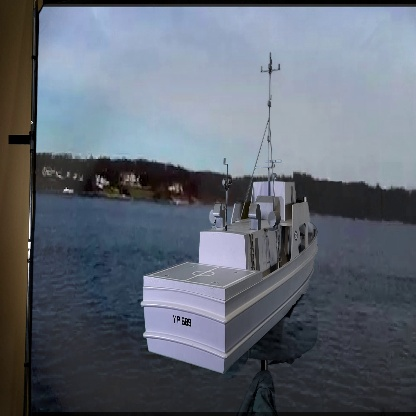YP689: (141, 56, 321, 376)
